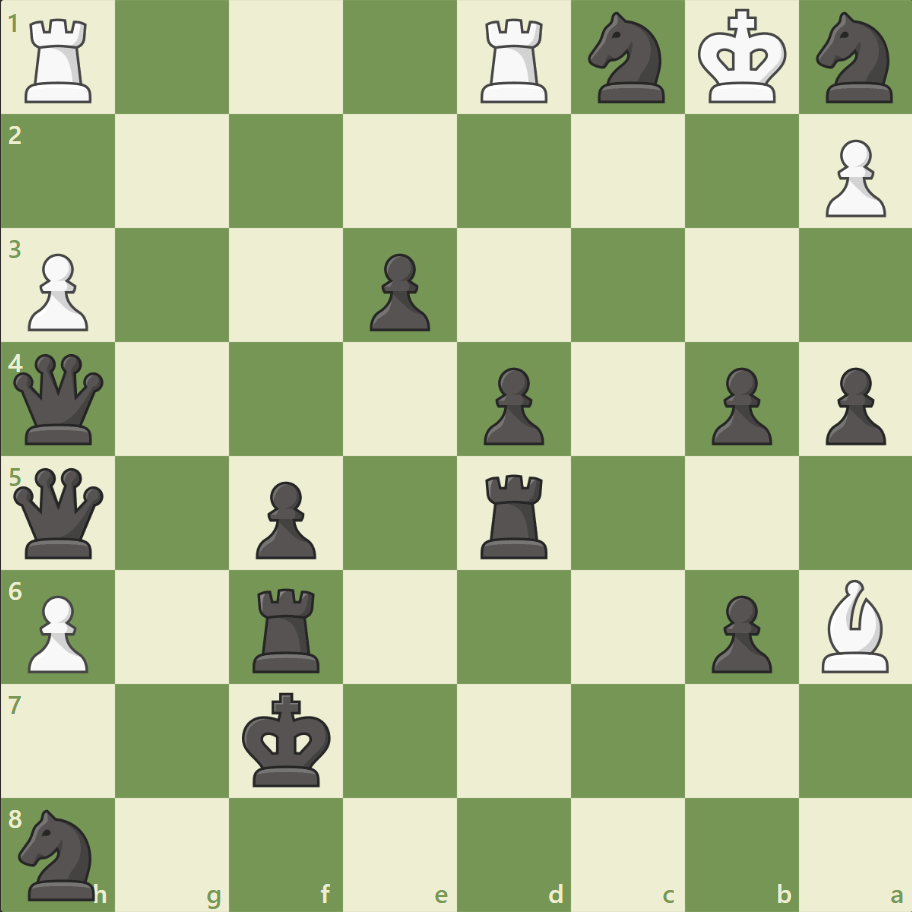B: (812, 574, 896, 676)
K: (692, 4, 792, 112)
P: (20, 586, 95, 677), (20, 246, 95, 337), (815, 132, 889, 223)
R: (473, 12, 556, 109), (19, 12, 102, 109)
k: (238, 685, 338, 793)
n: (806, 7, 903, 110), (579, 7, 676, 110), (11, 802, 108, 904)
p: (701, 586, 776, 677), (247, 473, 322, 564), (701, 359, 776, 450), (474, 359, 549, 450), (815, 359, 889, 450), (361, 246, 435, 337)
q: (10, 349, 109, 449), (10, 463, 109, 562)
r: (246, 579, 329, 676), (473, 466, 556, 563)
